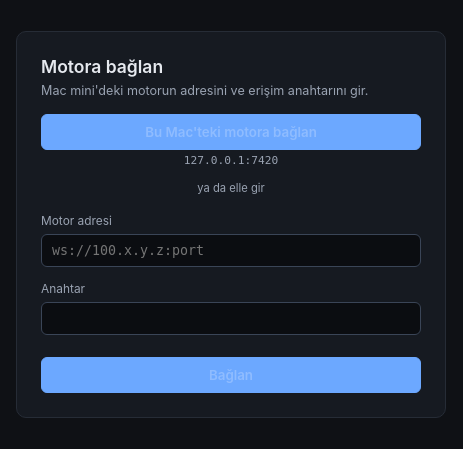
Scenario: ConnectScreen — Bu Mac'teki motor › error when the settings cannot be read back after connecting
The width and height of the screenshot is (463, 449).
Step 1. Click the button "Bu Mac'teki motora bağlan" → (231, 132), box x1=41 y1=114 x2=421 y2=150
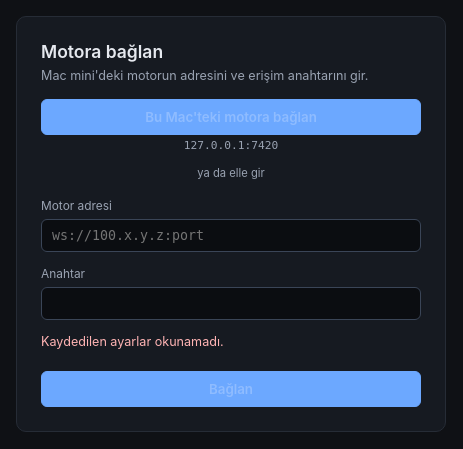
Expected: the message "Kaydedilen ayarlar okunamadı." is shown, x1=41 y1=334 x2=224 y2=349
